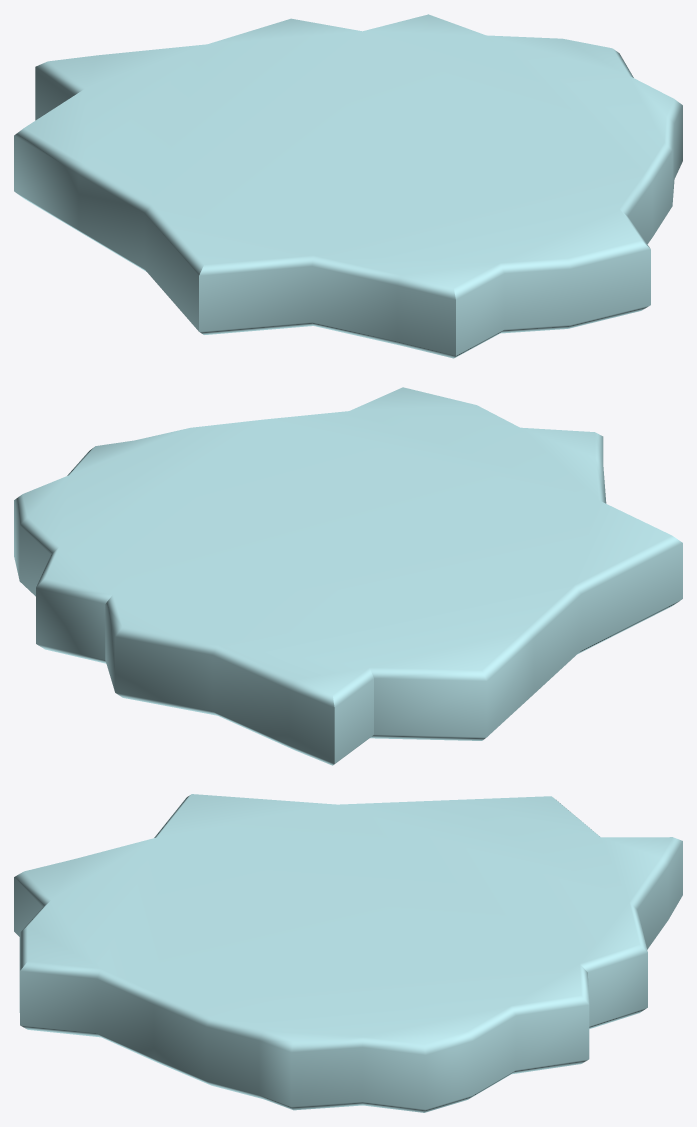
File: ice_floe_medium_001.fbx
The picture shows the model from 3 angles, top to bottom: view 1: azimuth 30°, elevation 25°; view 2: azimuth 150°, elevation 25°; view 3: azimuth 270°, elevation 25°; orthographic projection. The views are drawn at different scales.
Visible parts, largest first — view 1: ice_floe_medium_001; view 2: ice_floe_medium_001; view 3: ice_floe_medium_001.
Boxes of the visible parts, <box> form: ice_floe_medium_001: <box>14,14,682,358</box>; ice_floe_medium_001: <box>14,387,682,765</box>; ice_floe_medium_001: <box>14,794,682,1112</box>.
Bounding box in the file's own units: 721 × 791 × 89.44.
